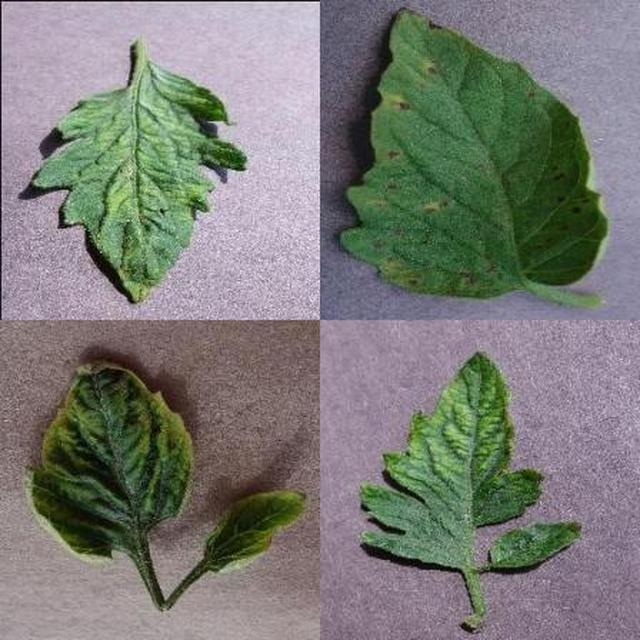Mosaic Virus Leaf: (152, 129, 640, 640)
